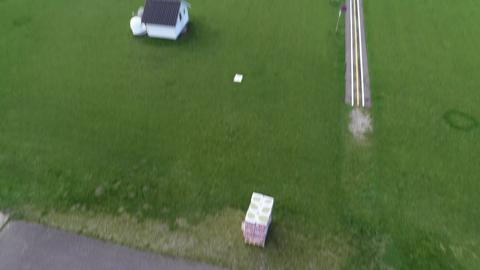RockwoolPallet: (243, 192, 275, 245)
